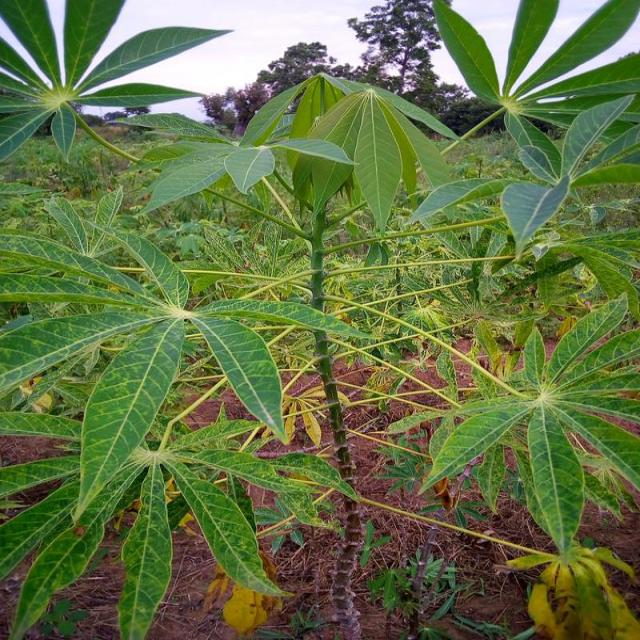cassava leaf: (72, 313, 185, 526)
